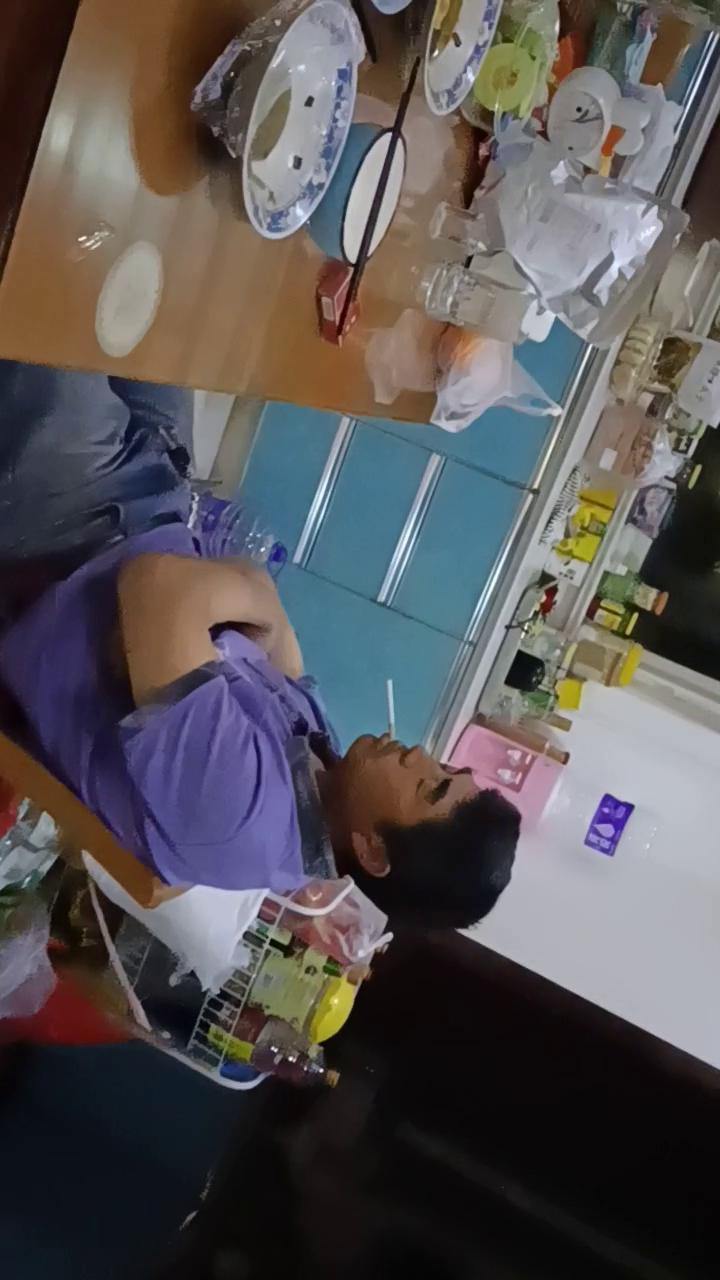smoke: (387, 680, 396, 740)
